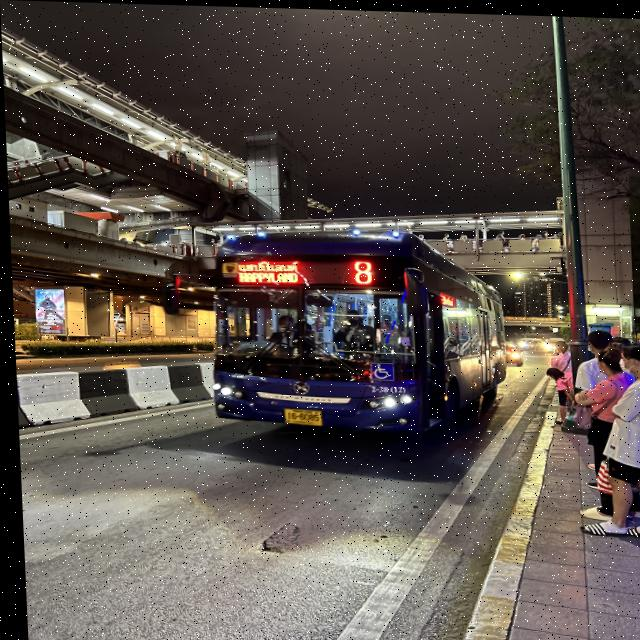Bus Line Number: (341, 251, 384, 287)
Bus Side Number: (363, 380, 406, 394)
Destination Sign: (227, 255, 308, 283)
TSB-Bus: (203, 227, 503, 434)
